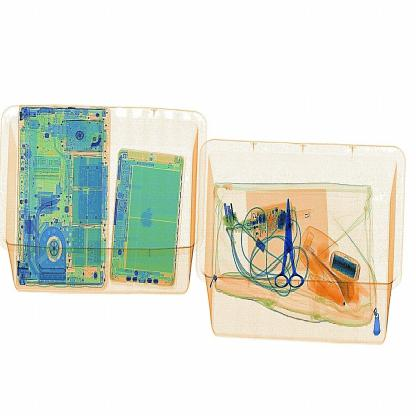gun: (269, 194, 308, 302)
